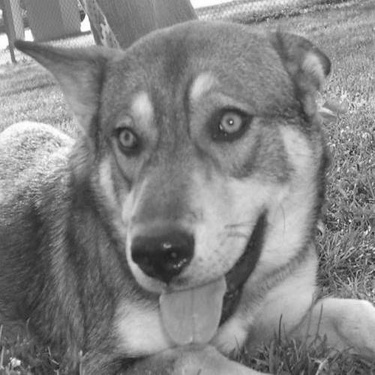dog: (1, 22, 373, 373)
